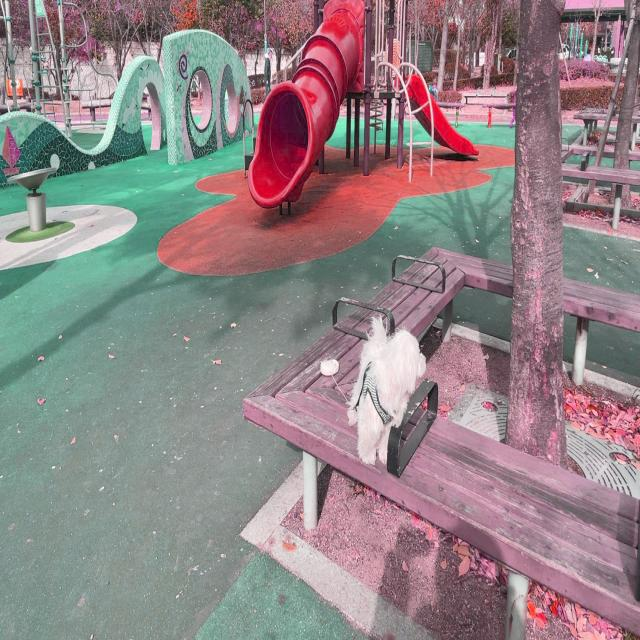Dog: (348, 316, 426, 464)
